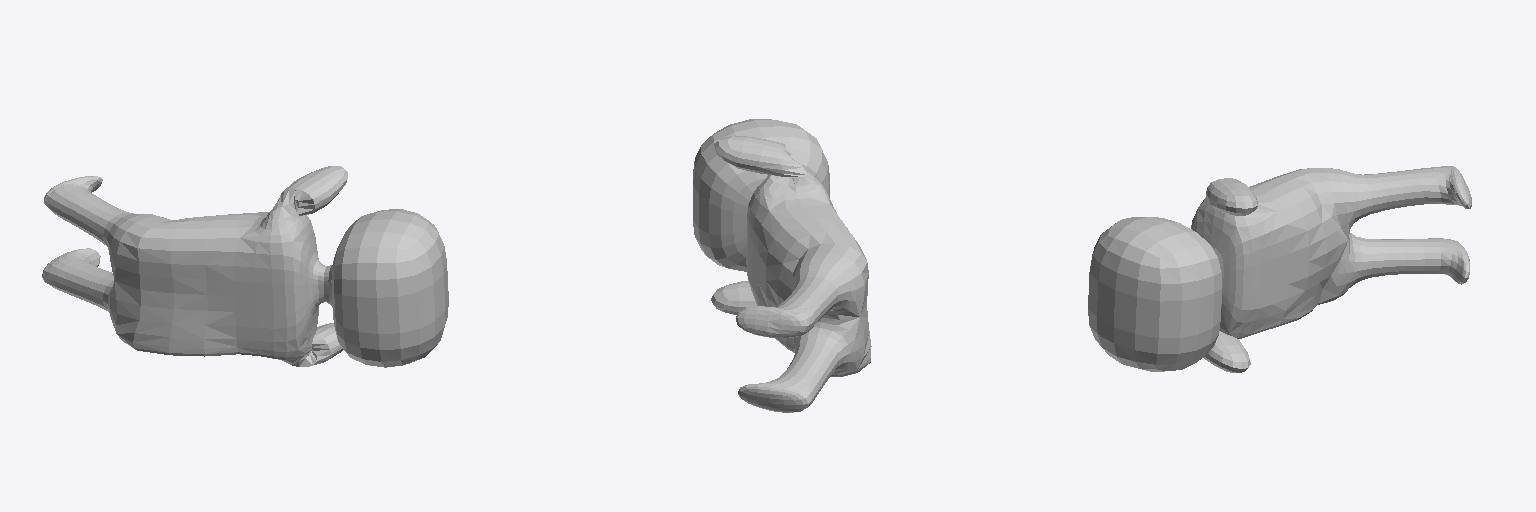
File: antman_push_19.obj
The picture shows the model from 3 angles: view 1: azimuth 30°, elevation 25°; view 2: azimuth 150°, elevation 25°; view 3: azimuth 270°, elevation 25°; orthographic projection.
Parts seen in each view (by area): view 1: Cube; view 2: Cube; view 3: Cube.
Boxes of the visible parts, x1,y1,x2,y2 form: Cube: [42, 166, 448, 367]; Cube: [693, 119, 871, 412]; Cube: [1088, 166, 1471, 372].
Bounding box in the file's own units: 1.25 × 0.8339 × 1.63.